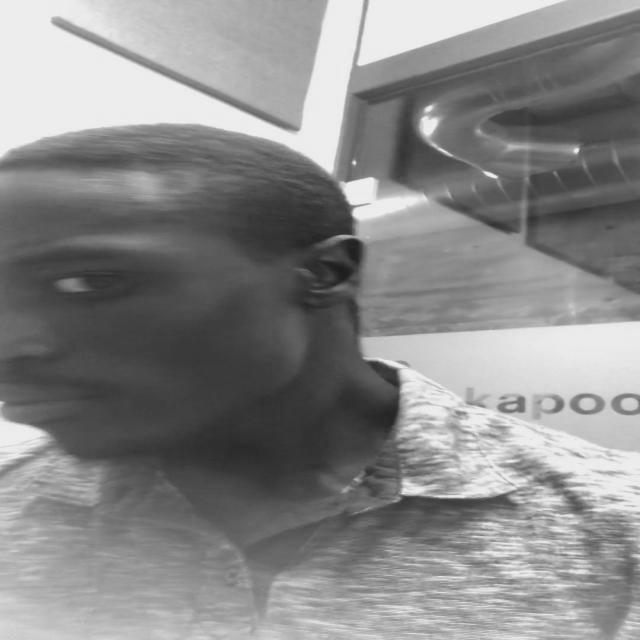real: (0, 160, 367, 452)
